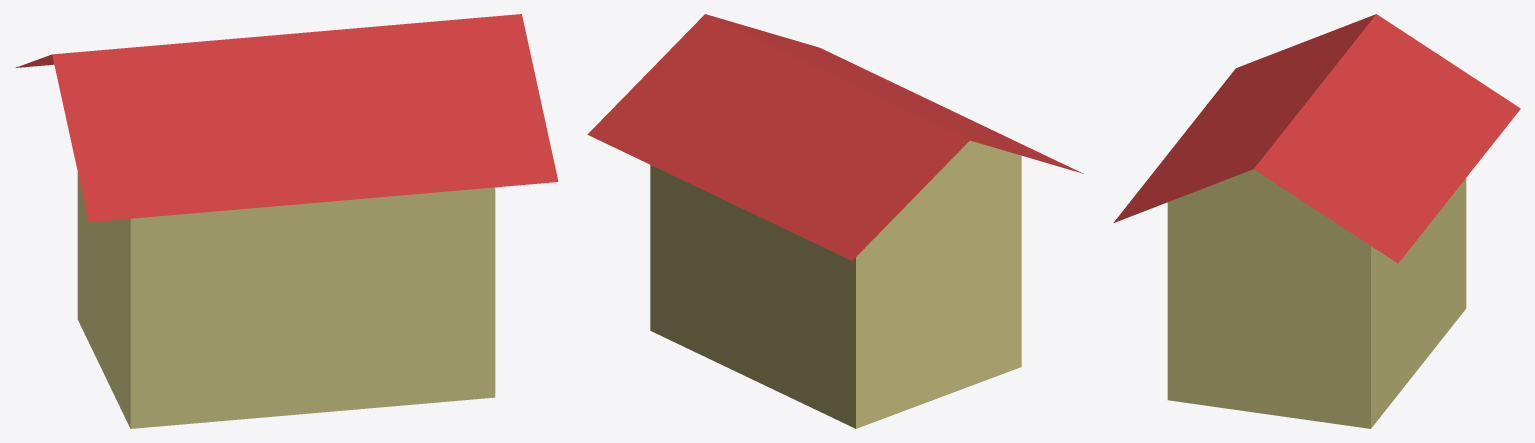
3 views of the same model, side by side, from view 1: azimuth 30°, elevation 25°; view 2: azimuth 150°, elevation 25°; view 3: azimuth 270°, elevation 25° (orthographic). The views are drawn at different scales.
Bounding box in the file's own units: 16.07 × 14.18 × 10.07.
